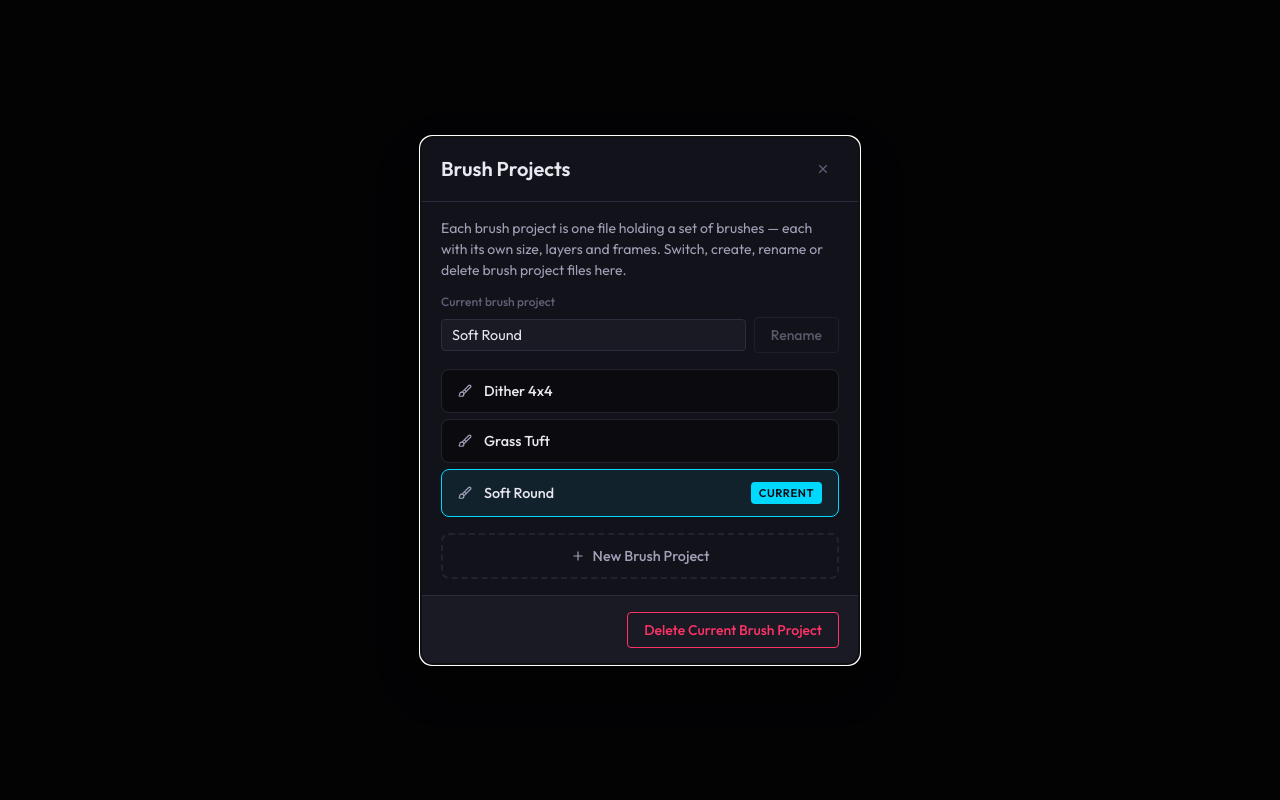
BrushSelectModal — create validates names › rejects a duplicate name
Click the button "New Brush Project".
click(640, 556)  # box [441,532,839,578]
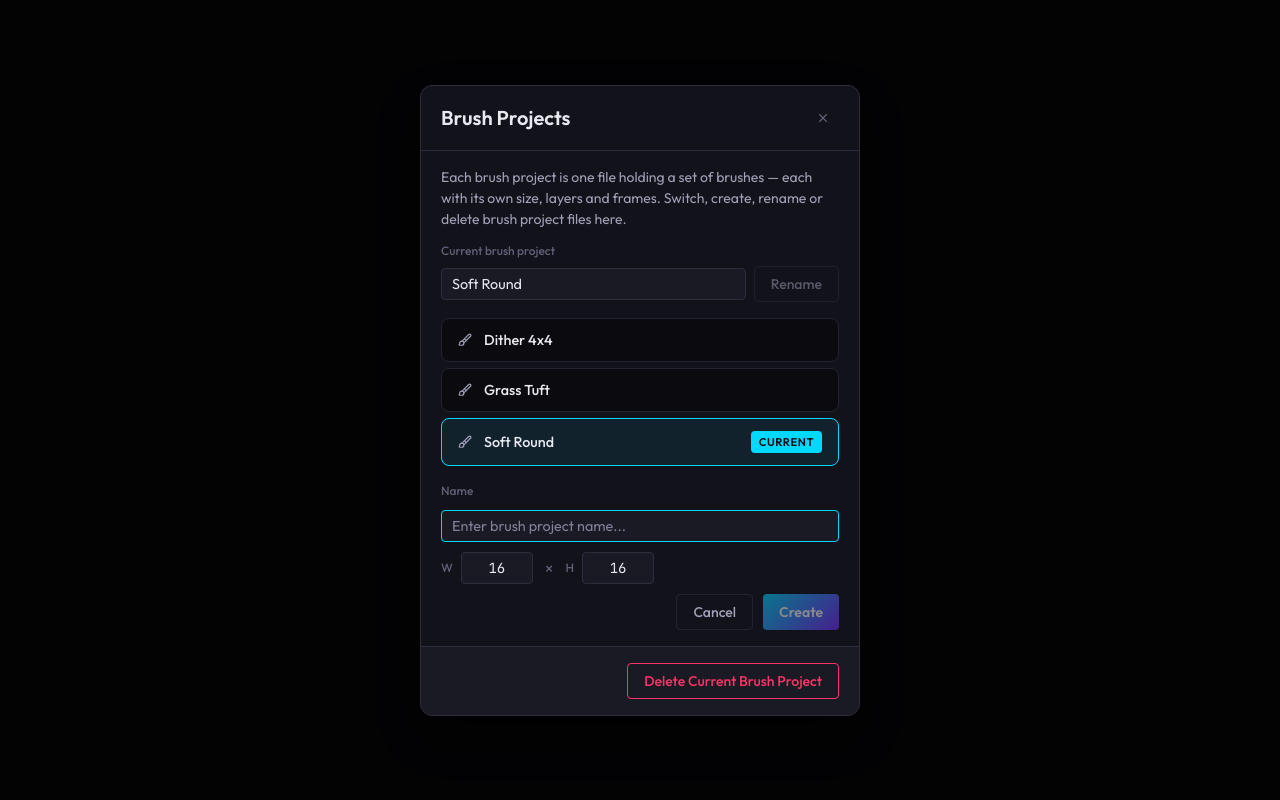
Type "Grass Tuft" into the field labelled "Name".
click(640, 526); type("Grass Tuft")  # box [441,510,839,542]
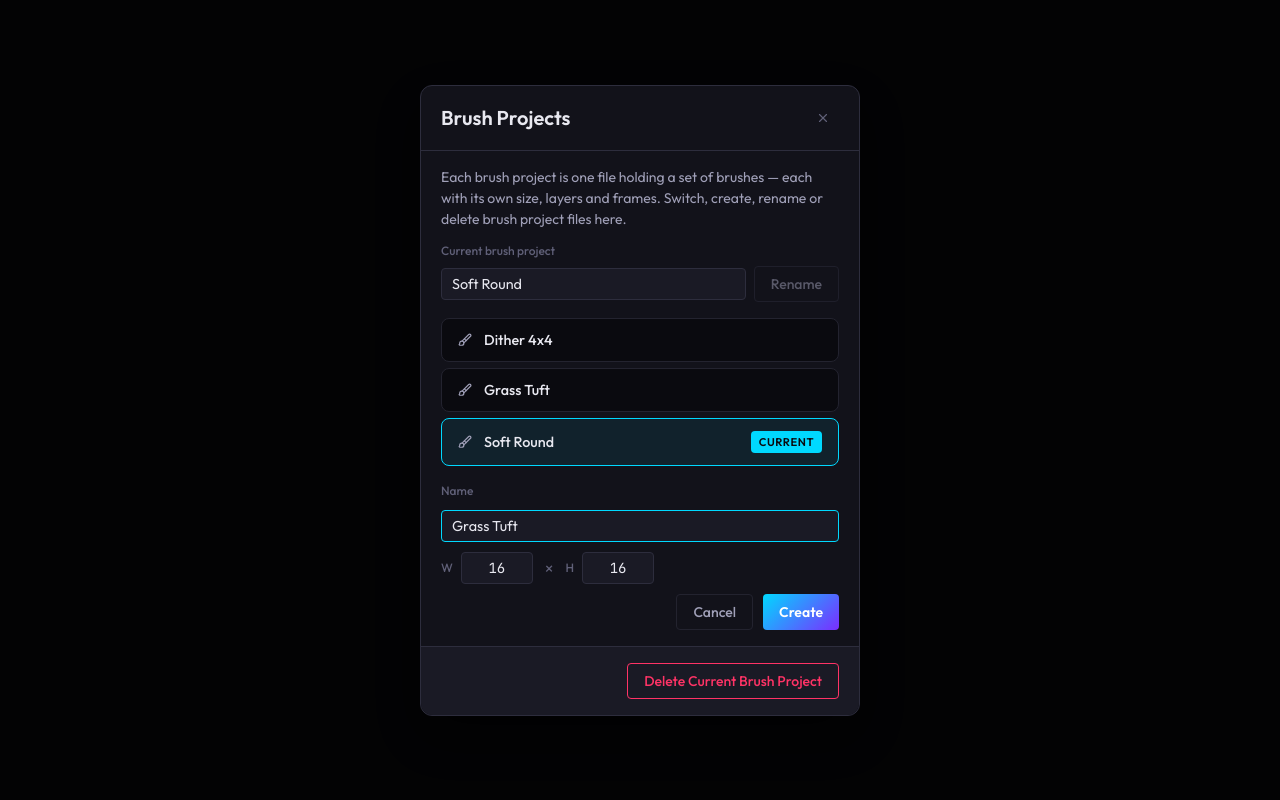
Click the button "Create".
click(801, 612)  # box [763,594,839,630]
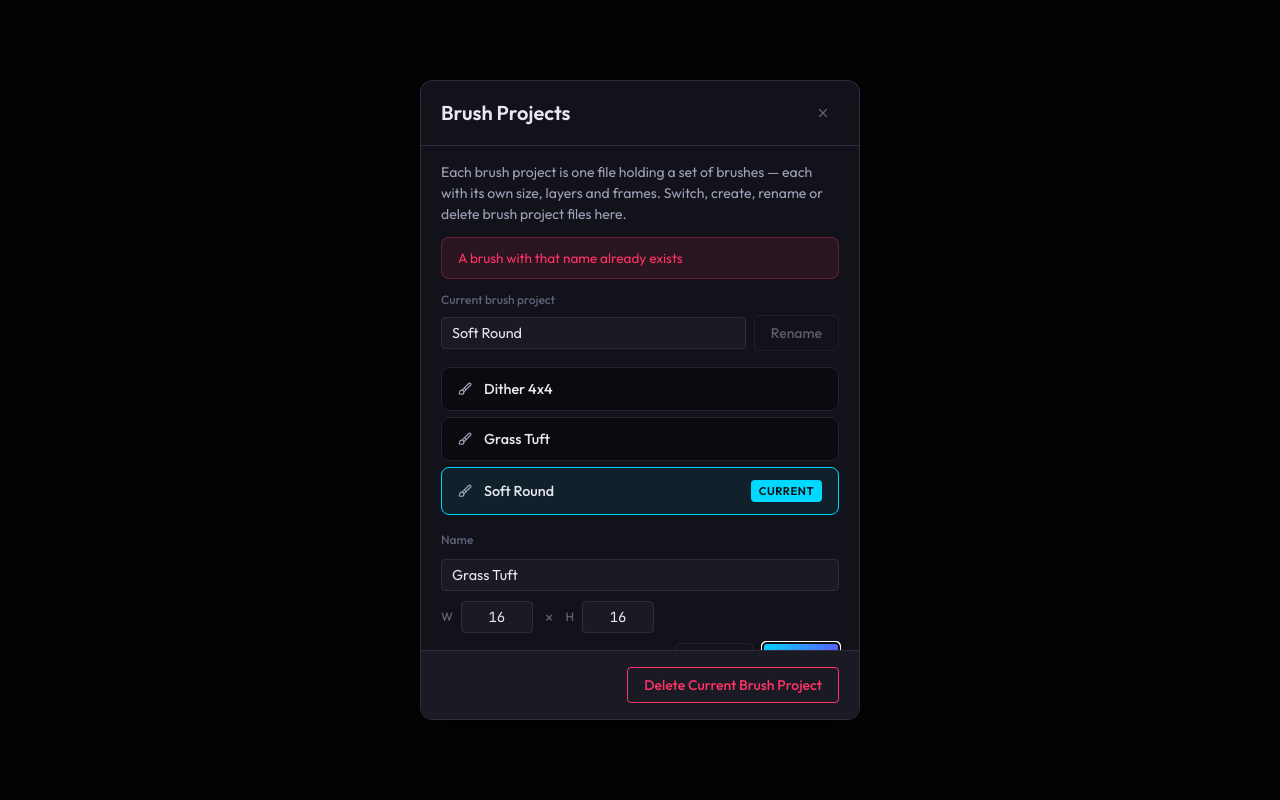
Expected: the message shows "already exists", [458,249,683,267]
